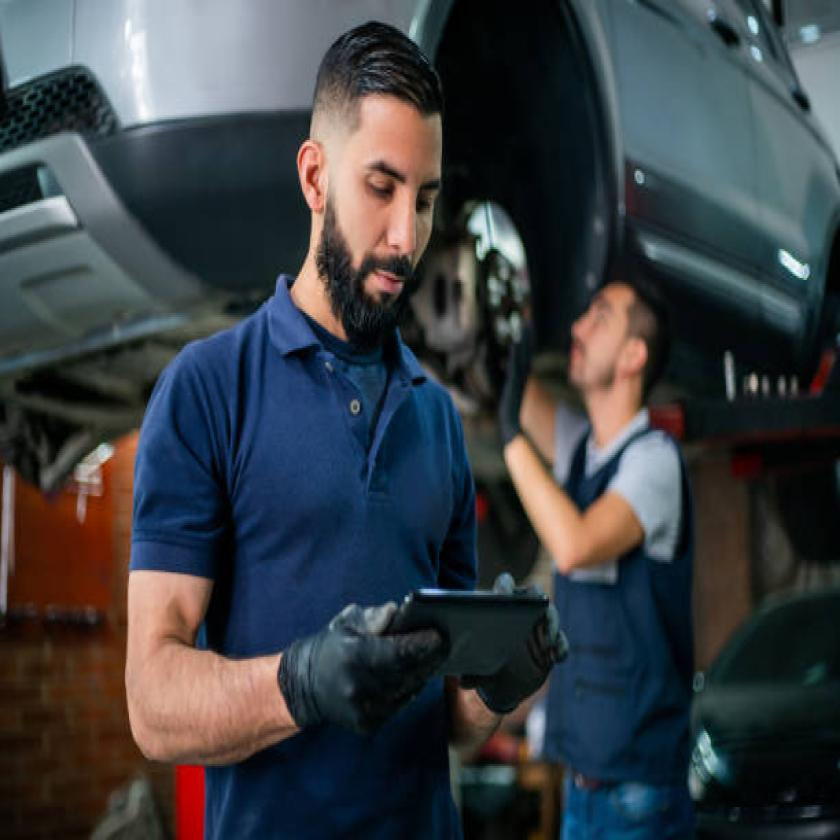Sin_casco: (293, 28, 475, 367), (558, 248, 663, 440)
